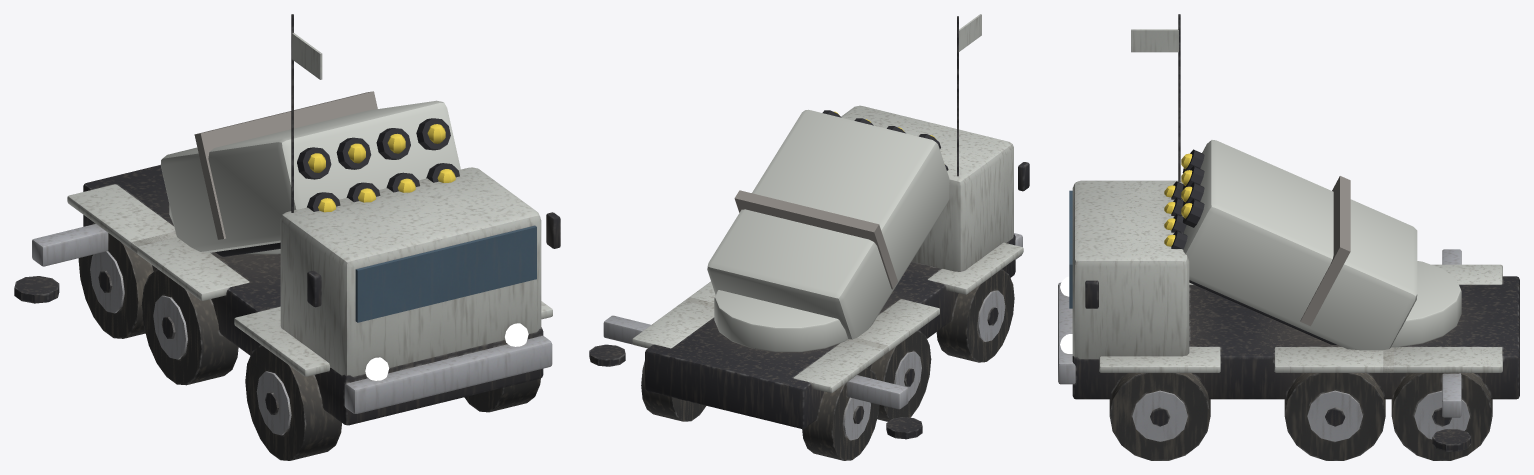
File: rocketlauncher.glb
3 views of the same model, side by side, from view 1: azimuth 30°, elevation 25°; view 2: azimuth 150°, elevation 25°; view 3: azimuth 270°, elevation 25° (orthographic). The views are drawn at different scales.
Visible parts, largest first — view 1: Hull, Turret; view 2: Hull, Turret; view 3: Hull, Turret.
Boxes of the visible parts, x1=… form: Hull: x1=14, y1=14, x2=560, y2=460; Turret: x1=160, y1=91, x2=460, y2=256; Hull: x1=589, y1=14, x2=1029, y2=460; Turret: x1=707, y1=109, x2=949, y2=351; Hull: x1=1058, y1=14, x2=1519, y2=460; Turret: x1=1164, y1=140, x2=1461, y2=350.
Bounding box in the file's own units: 4.08 × 4.09 × 4.75.
10 materials, 6 textured.
